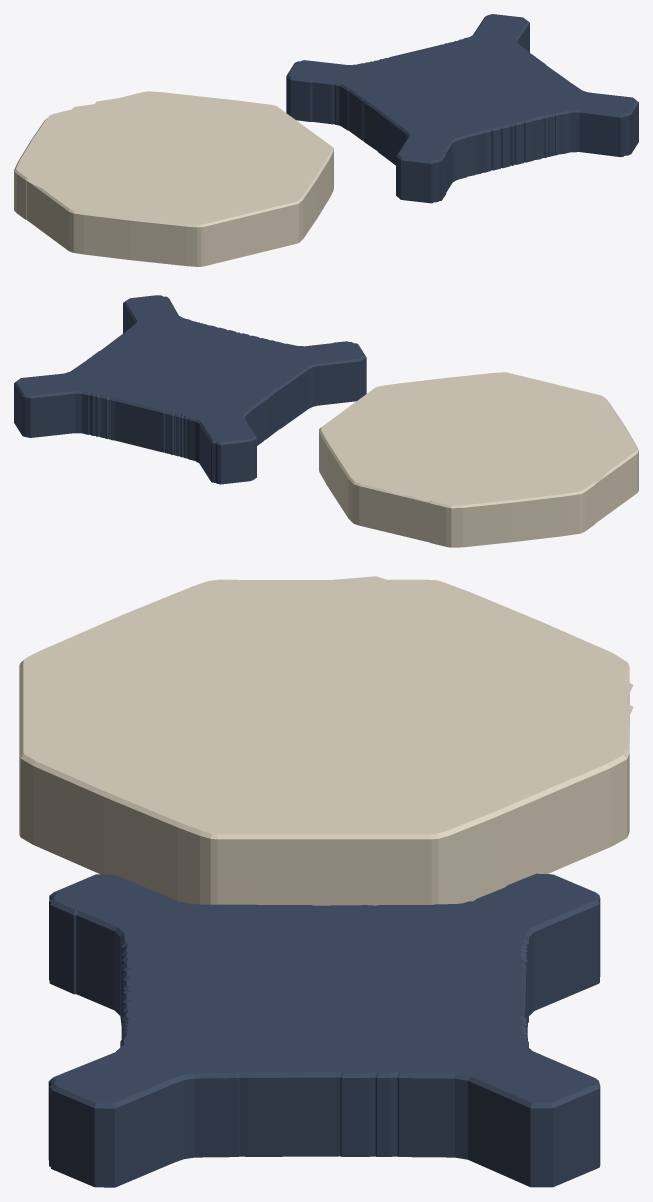
File: mahsulot.glb
3 views of the same model, one above another, from view 1: azimuth 30°, elevation 25°; view 2: azimuth 150°, elevation 25°; view 3: azimuth 270°, elevation 25° (orthographic). The views are drawn at different scales.
Visible parts, largest first — view 1: mahsulot_A, mahsulot_B; view 2: mahsulot_A, mahsulot_B; view 3: mahsulot_A, mahsulot_B.
Part boxes in pixels (x1=…): mahsulot_A: x1=14, y1=91, x2=333, y2=266; mahsulot_B: x1=286, y1=14, x2=638, y2=203; mahsulot_A: x1=319, y1=372, x2=638, y2=547; mahsulot_B: x1=14, y1=295, x2=366, y2=484; mahsulot_A: x1=19, y1=576, x2=633, y2=905; mahsulot_B: x1=48, y1=873, x2=600, y2=1187.
Size of the model in its own units: 0.4809 by 0.035 by 0.236.
